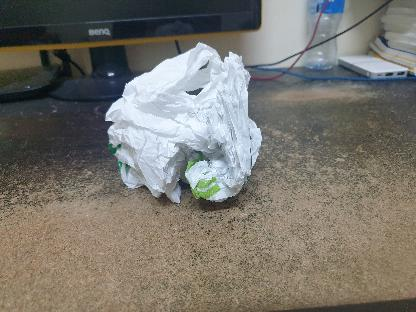Plastic Bag: (104, 42, 262, 206)
